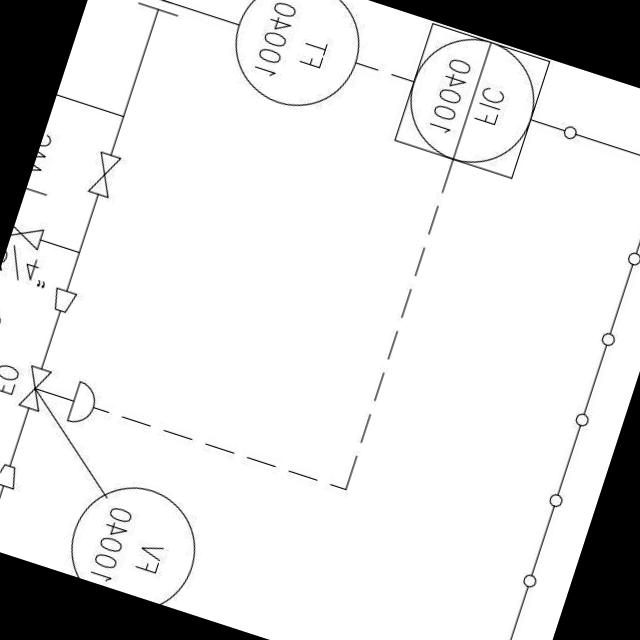FC: (10, 356, 109, 432)
GV: (84, 146, 125, 203)
SP: (48, 284, 80, 318), (0, 456, 24, 494)
